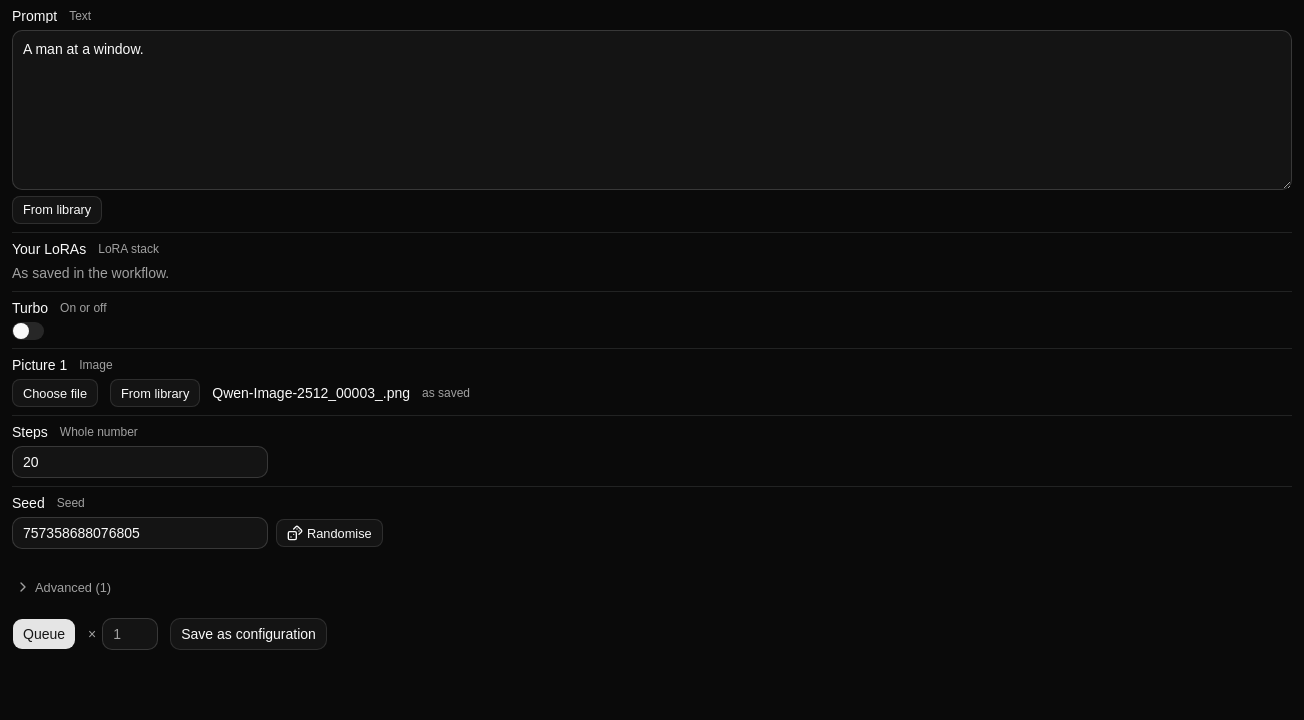
Test case: RunForm › will not queue a number of runs outside one to twenty, and says why
Replace the text in the field named "Number of runs" with "21" at coordinates (130, 634), box [102,618,158,650]
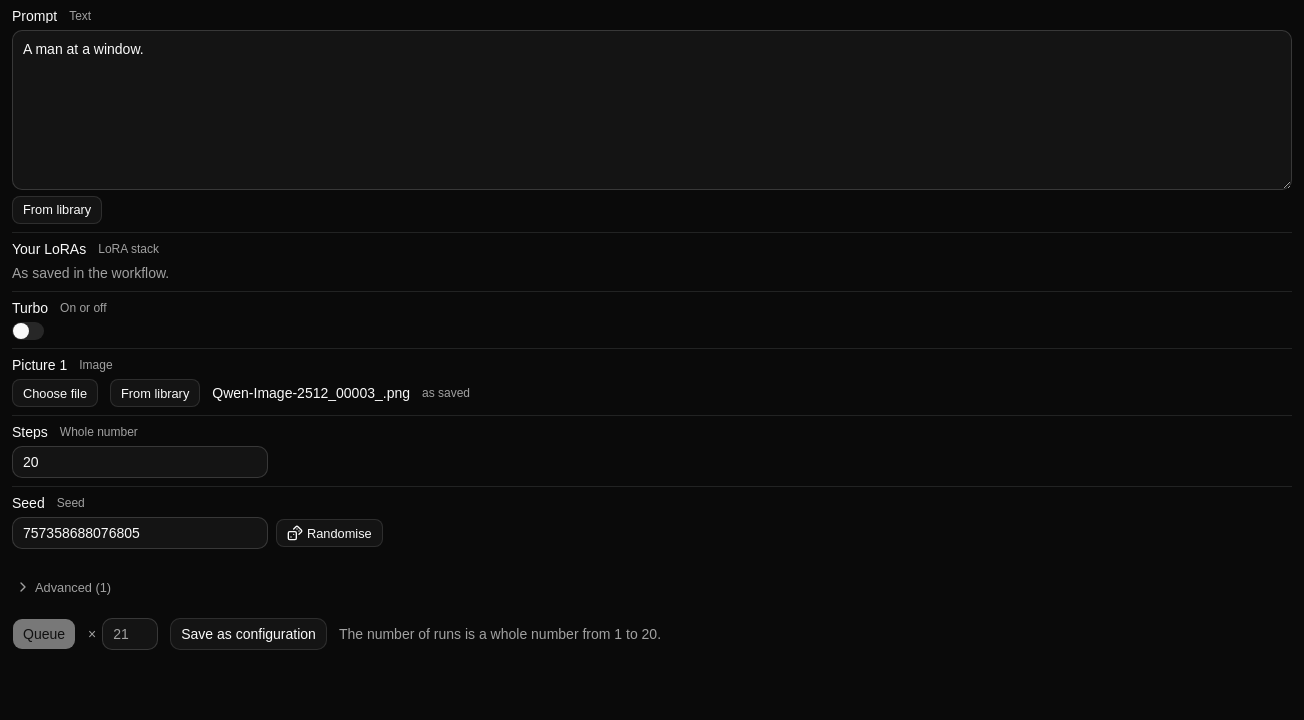
expect the button "Queue" is disabled: met, box [12,618,76,650]
expect the text "The number of runs is a whole number from 1 to 20." is shown: met, box [339,624,661,644]
